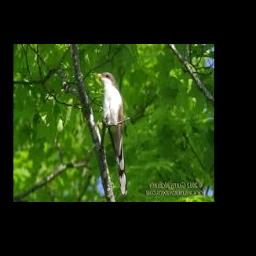Cuckoo: (98, 72, 128, 195)
